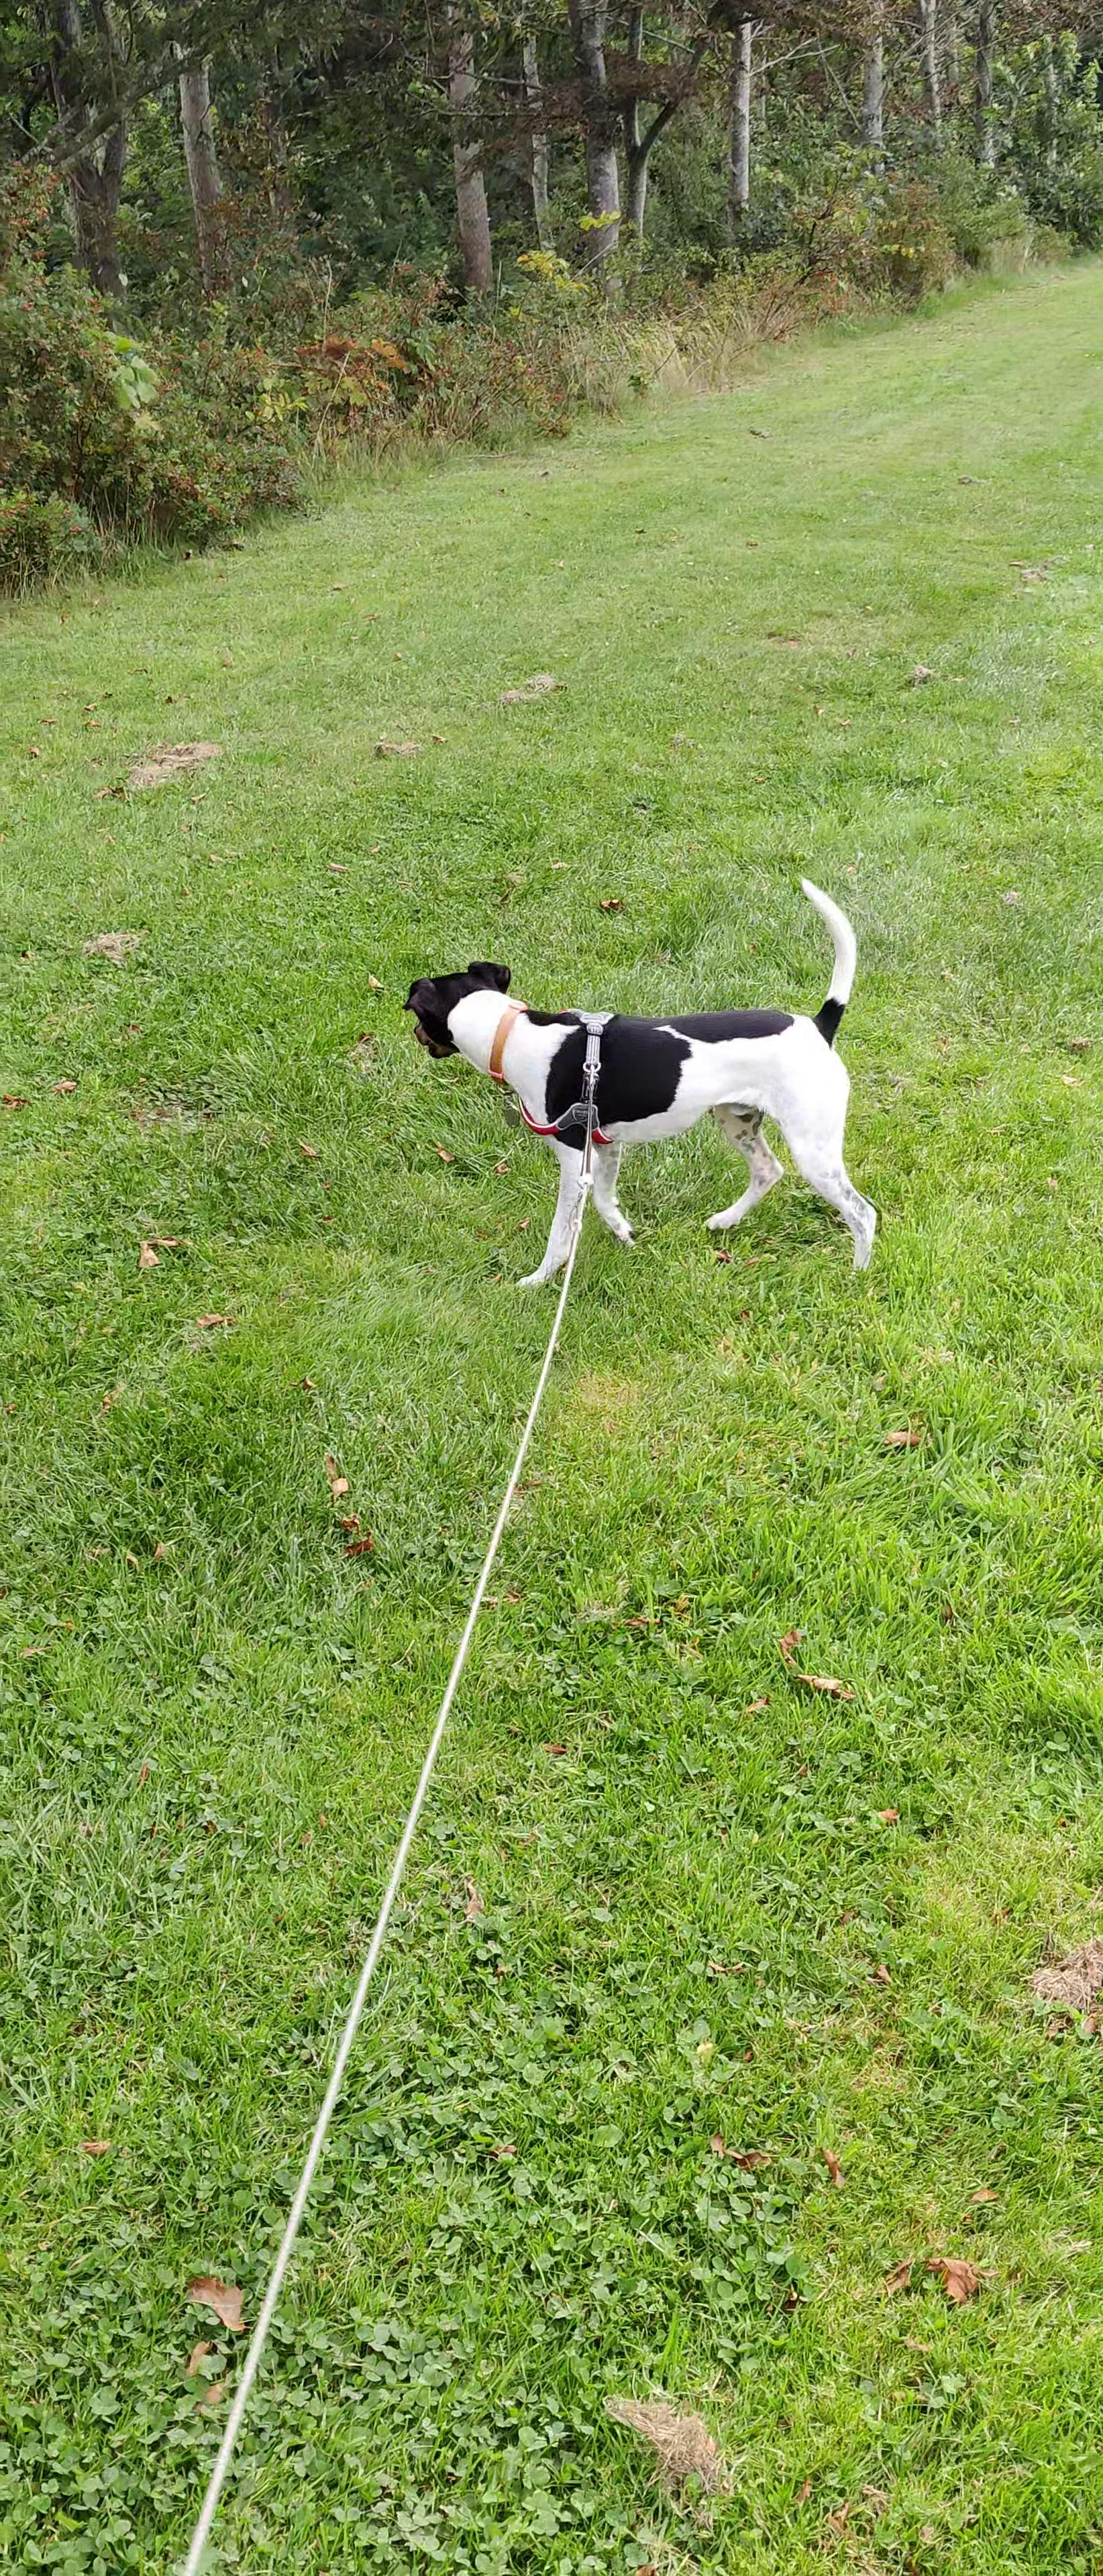Dog: (395, 867, 884, 1298)
